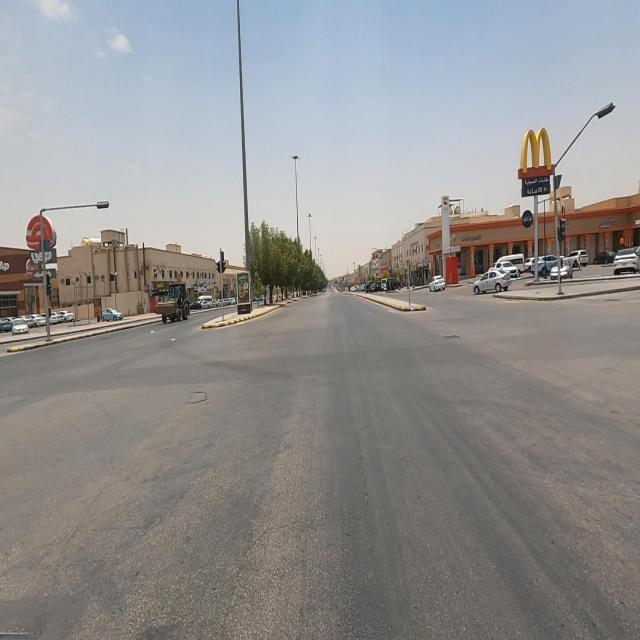debris: (135, 316, 170, 348), (164, 326, 182, 352)
